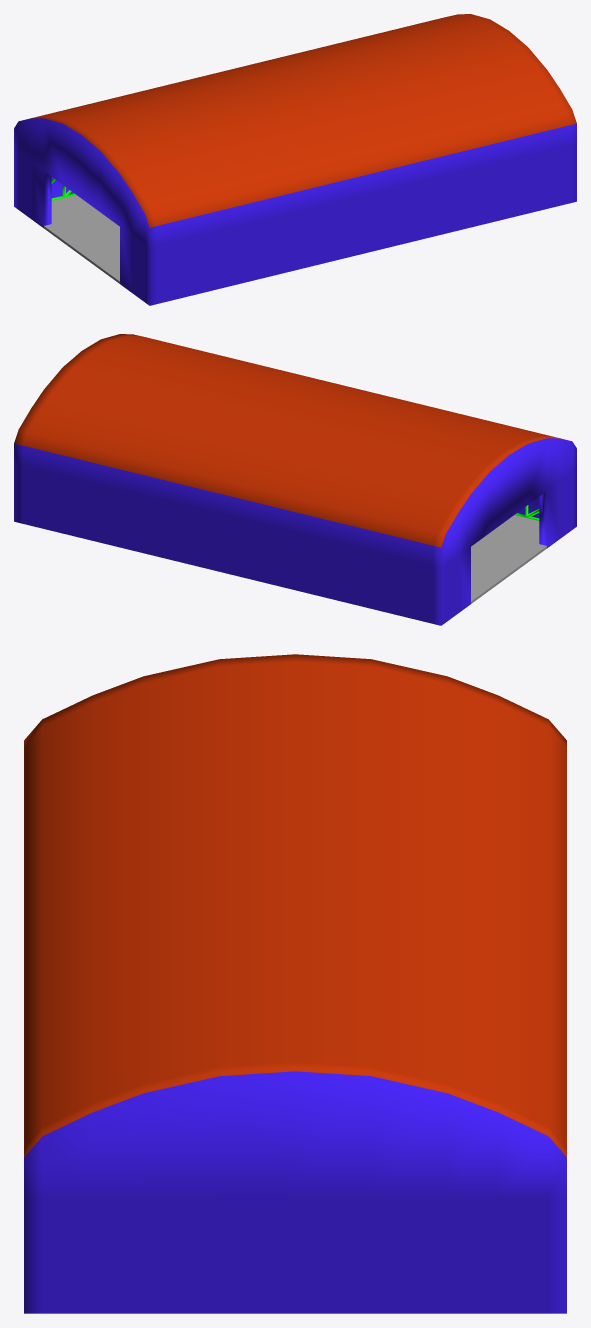
Rendered from airport.obj.
3 views of the same model, one above another, from view 1: azimuth 30°, elevation 25°; view 2: azimuth 150°, elevation 25°; view 3: azimuth 270°, elevation 25° (orthographic). The views are drawn at different scales.
Visible parts, largest first — view 1: Hangar_Base_Plane; view 2: Hangar_Base_Plane; view 3: Hangar_Base_Plane.
Boxes of the visible parts, x1,y1,x2,y2 form: Hangar_Base_Plane: (14,14,576,305); Hangar_Base_Plane: (14,334,576,625); Hangar_Base_Plane: (24,654,566,1313).
Bounding box in the file's own units: 18.13 × 4.91 × 9.97.
